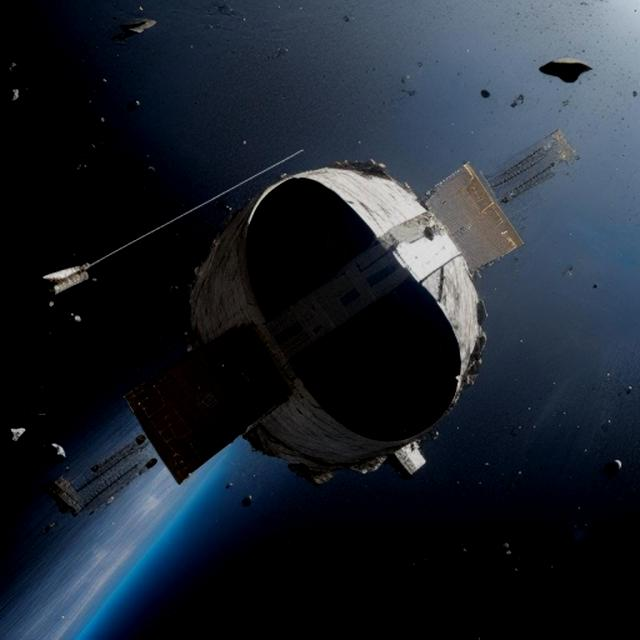large_debris: (206, 0, 410, 53), (0, 64, 145, 106), (0, 407, 72, 464), (527, 49, 603, 92), (111, 0, 175, 44), (595, 360, 631, 438), (205, 477, 272, 506), (599, 446, 626, 480)
satellite: (0, 97, 590, 509)
